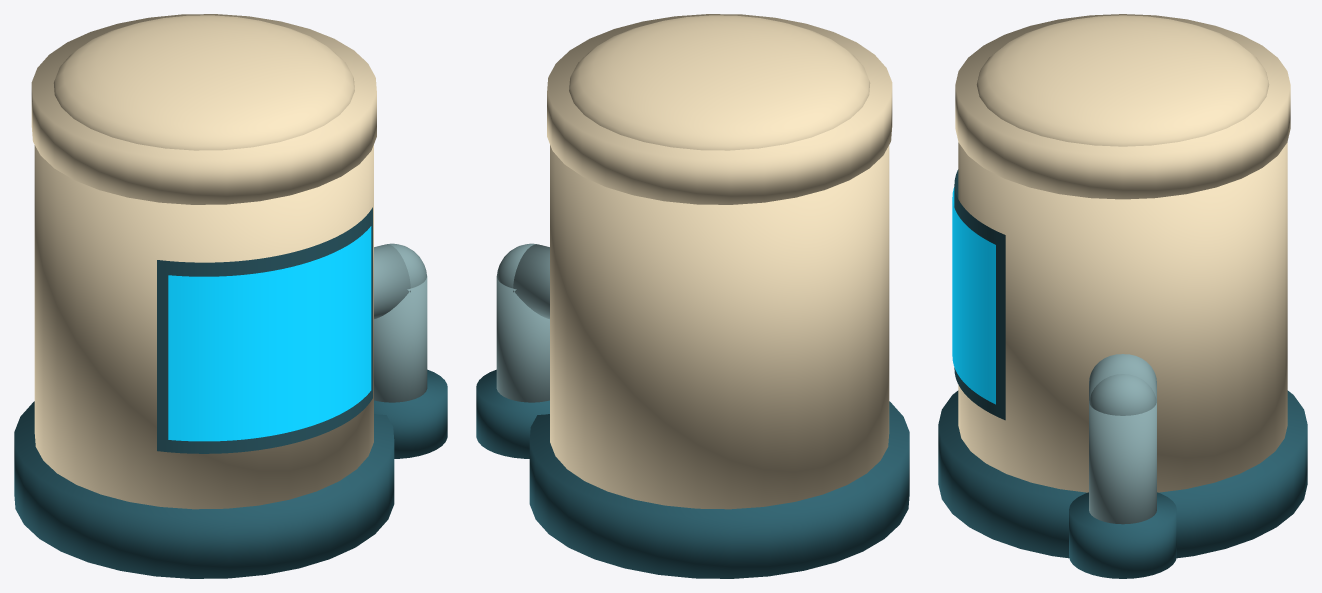
The model's file is refinery.glb.
The picture shows the model from 3 angles, left to right: view 1: azimuth 30°, elevation 25°; view 2: azimuth 150°, elevation 25°; view 3: azimuth 270°, elevation 25°; orthographic projection. The views are drawn at different scales.
Visible parts, largest first — view 1: Refinery tank, Window turquoise glass, Rounded refinery crown, Refinery base, Refinery lid, Window dark border, Refinery pipe, Pipe foot, Refinery pipe connection, Pipe elbow; view 2: Refinery tank, Rounded refinery crown, Refinery base, Refinery lid, Refinery pipe, Pipe foot, Refinery pipe connection, Pipe elbow; view 3: Refinery tank, Rounded refinery crown, Refinery lid, Refinery base, Refinery pipe, Window turquoise glass, Pipe foot, Window dark border, Pipe elbow, Refinery pipe connection.
Part boxes in pixels (x1,y1,x2,y2): Refinery tank: (34,145,373,509); Window turquoise glass: (168,226,371,441); Rounded refinery crown: (53,15,354,150); Refinery base: (14,401,394,578); Refinery lid: (31,14,376,204); Window dark border: (157,207,372,453); Refinery pipe: (374,274,427,402); Pipe foot: (374,369,447,458); Refinery pipe connection: (374,244,410,319); Pipe elbow: (387,243,426,288); Refinery tank: (550,145,889,509); Rounded refinery crown: (569,15,870,150); Refinery base: (529,401,909,578); Refinery lid: (547,14,892,204); Refinery pipe: (496,274,549,402); Pipe foot: (476,369,549,458); Refinery pipe connection: (513,244,549,319); Pipe elbow: (497,243,536,288); Refinery tank: (958,142,1287,492); Rounded refinery crown: (976,15,1269,146); Refinery lid: (955,14,1290,199); Refinery base: (938,390,1307,558); Refinery pipe: (1089,401,1156,524); Window turquoise glass: (952,187,995,404); Pipe foot: (1069,492,1176,578); Window dark border: (954,169,1005,420); Pipe elbow: (1089,374,1156,415); Refinery pipe connection: (1089,354,1156,400).
Bounding box in the file's own units: 1.58 × 1.68 × 1.3.
